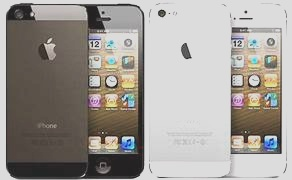iphone: (5, 4, 88, 179), (148, 2, 230, 178)
